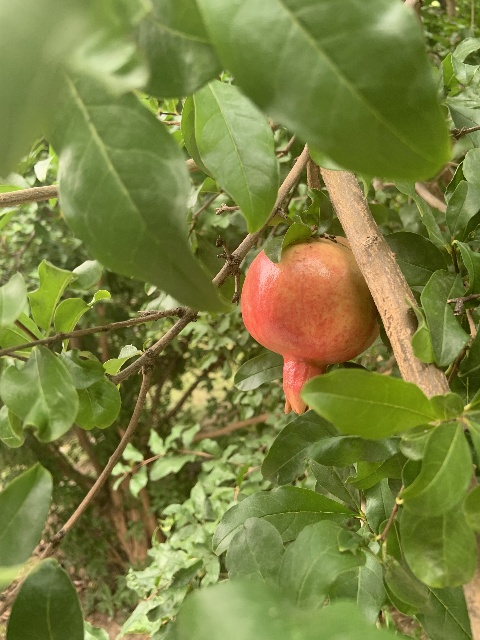ripe: (240, 237, 380, 416)
